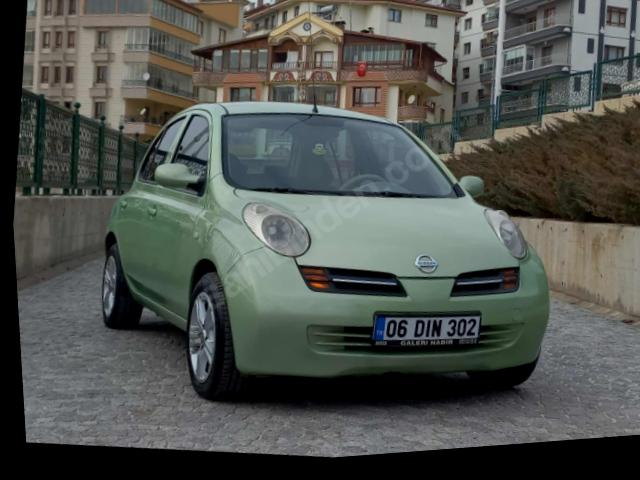plaka: (372, 314, 480, 346)
